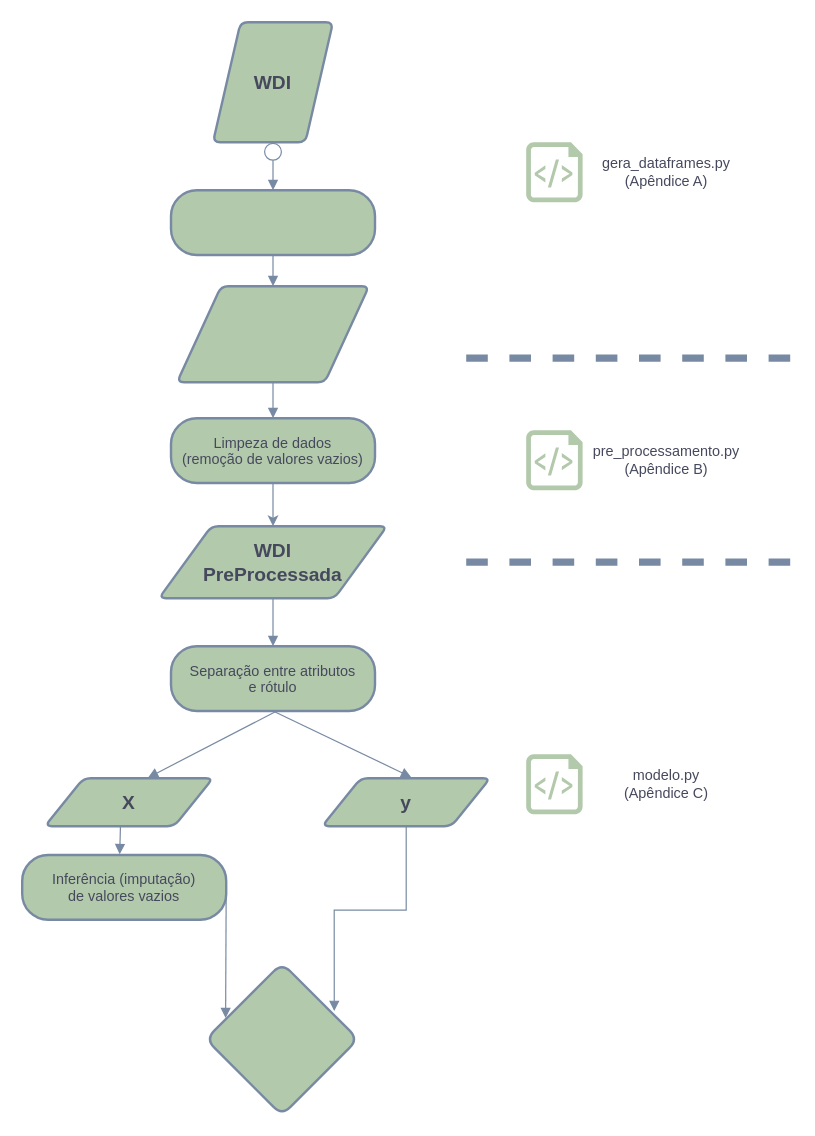
Some shapes in this 815 by 1136 pixel diagram are drawn without their labels. Here are the shapes that lost their labels. From the top down, the box of each, then its label:
(169, 188, 376, 256): Transformação dos dados com Melt + Pivot
(175, 284, 370, 383): WDI Transformada
(204, 961, 359, 1116): Modelagem Random Forest
